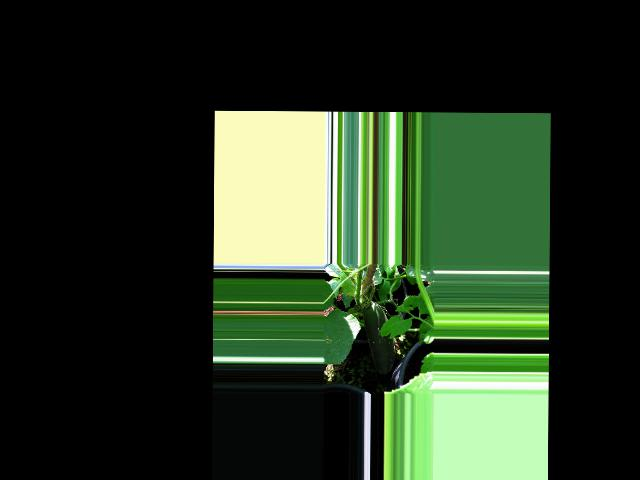cucumber: (361, 301, 395, 374)
